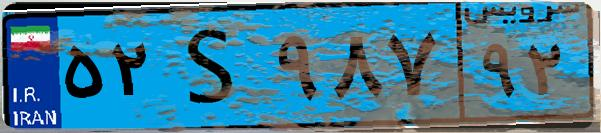2: (525, 38, 570, 115), (110, 28, 158, 98)
5: (57, 26, 110, 100)
7: (385, 28, 445, 110)
8: (330, 28, 385, 110)
9: (270, 28, 330, 110), (475, 38, 525, 113)
S: (158, 12, 270, 120)
